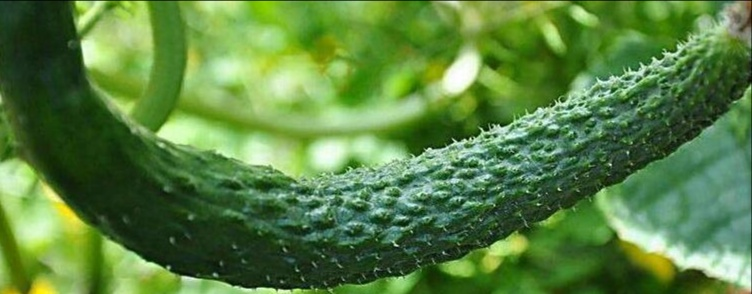cucumber: (5, 4, 748, 286)
